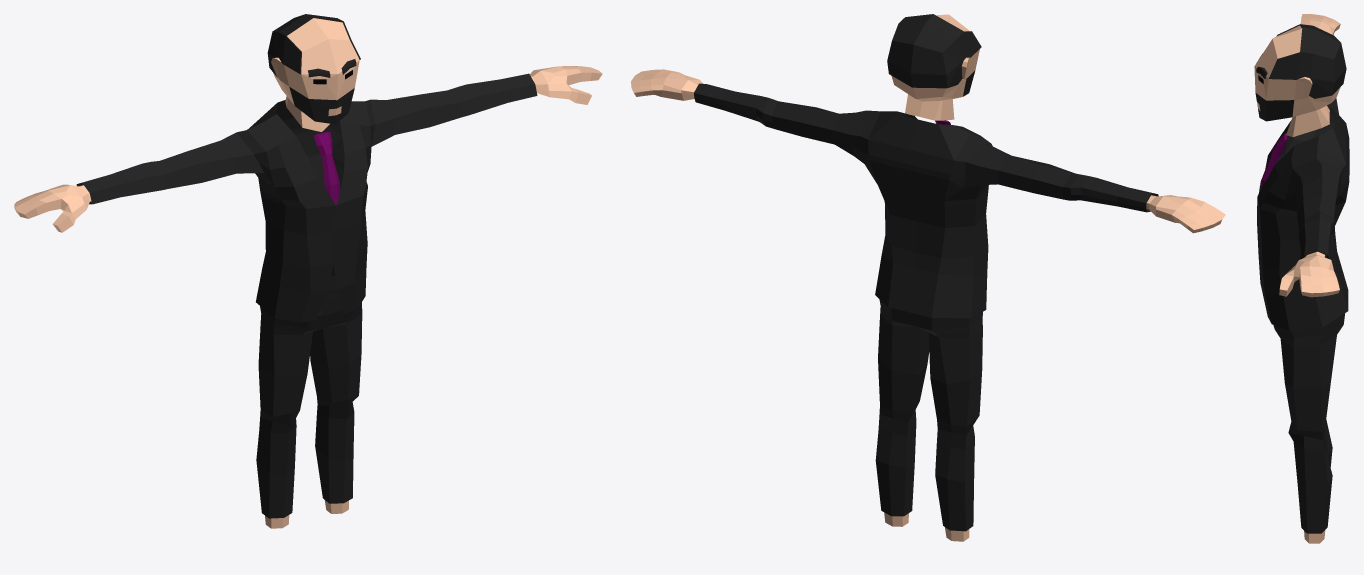
File: NPC_TrajeNegro_Escenario2.fbx
3 renders of one model, left to right at view 1: azimuth 30°, elevation 25°; view 2: azimuth 150°, elevation 25°; view 3: azimuth 270°, elevation 25°, orthographic. The views are drawn at different scales.
Parts seen in each view (by area): view 1: Personaje; view 2: Personaje; view 3: Personaje.
Part boxes in pixels (left/top/right/bottom): Personaje: left=14, top=14, right=602, bottom=528; Personaje: left=631, top=14, right=1225, bottom=541; Personaje: left=1254, top=14, right=1349, bottom=543.
Size of the model in its own units: 215 by 184 by 30.94.
